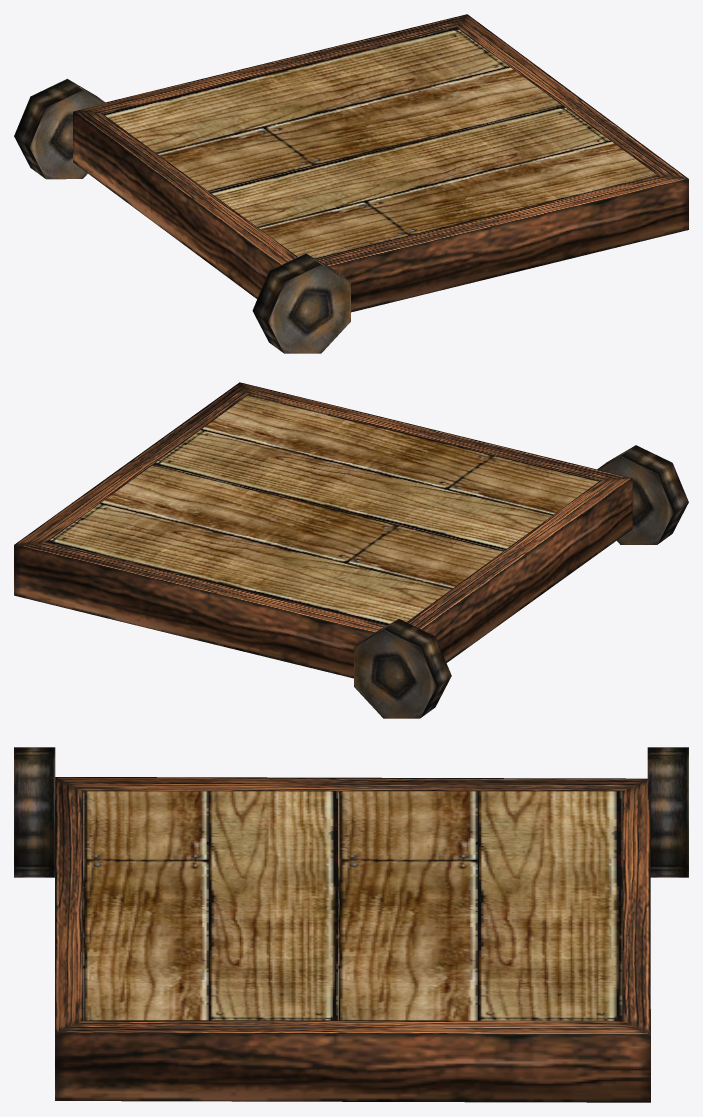
Rendered from INST_WH2_DROP_PLAT.fbx.
3 views of the same model, one above another, from view 1: azimuth 30°, elevation 25°; view 2: azimuth 150°, elevation 25°; view 3: azimuth 270°, elevation 25° (orthographic). The views are drawn at different scales.
Visible parts, largest first — view 1: INST_WH2_DROP_PLAT; view 2: INST_WH2_DROP_PLAT; view 3: INST_WH2_DROP_PLAT.
Part boxes in pixels (box(x1,y1,x2,y2)): INST_WH2_DROP_PLAT: box(14, 14, 688, 353); INST_WH2_DROP_PLAT: box(14, 382, 688, 718); INST_WH2_DROP_PLAT: box(14, 747, 688, 1102).
Bounding box in the file's own units: 17642 × 3417 × 17680.
3 materials, 3 textured.
